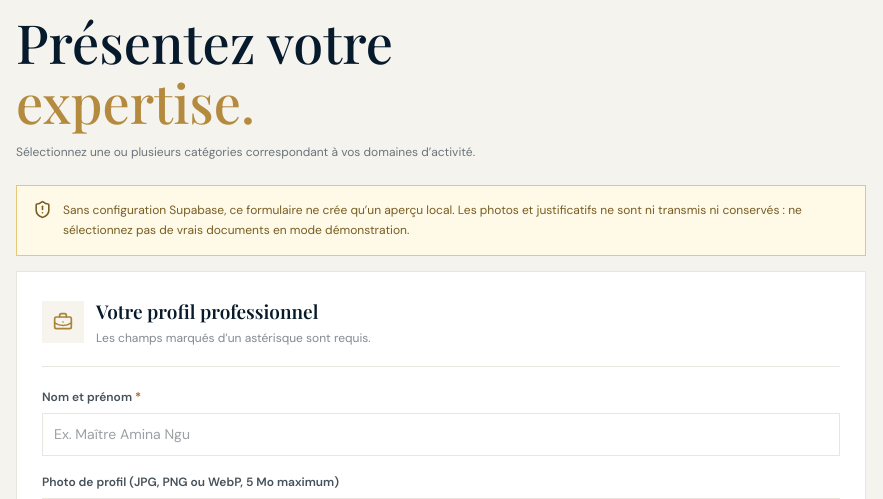
Test: ProfessionalSignupPage › accepts multiple categories for another profession and saves only a local preview
In the field labelled "Nom et prénom *": (441,435) [42,413,840,456], type "Maître Test"
(page scrolled)
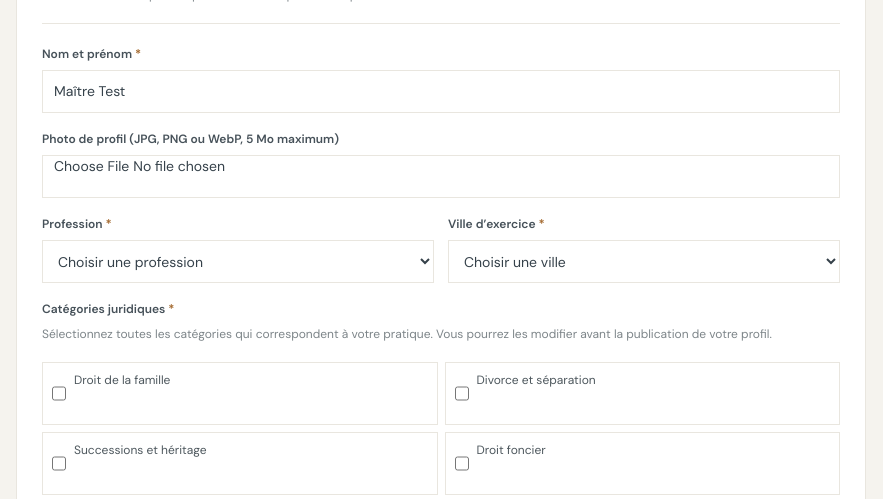
Select "Notaire" in the dropdown labelled "Profession *": (238,262) [42,240,434,283]
Select "Douala — région Littoral" in the dropdown labelled "Ville d’exercice *": (644,262) [448,240,840,283]
(page scrolled)
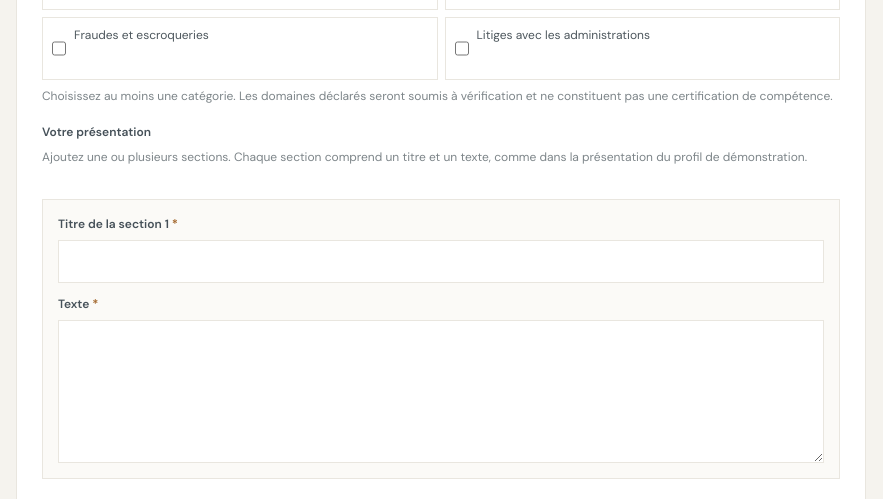
In the field labelled "Titre de la section 1 *": (441,261) [58,240,824,283], type "Votre accompagnement"
In the text box labelled "Texte *": (441,391) [58,320,824,463], type "Présentation de votre pratique."
(page scrolled)
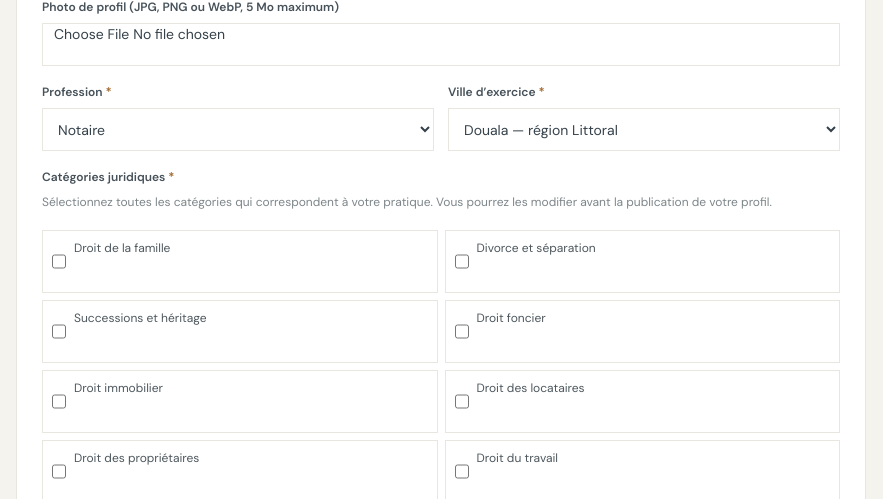
Click the checkbox labelled "Droit de la famille": (59,262) [52,240,66,283]
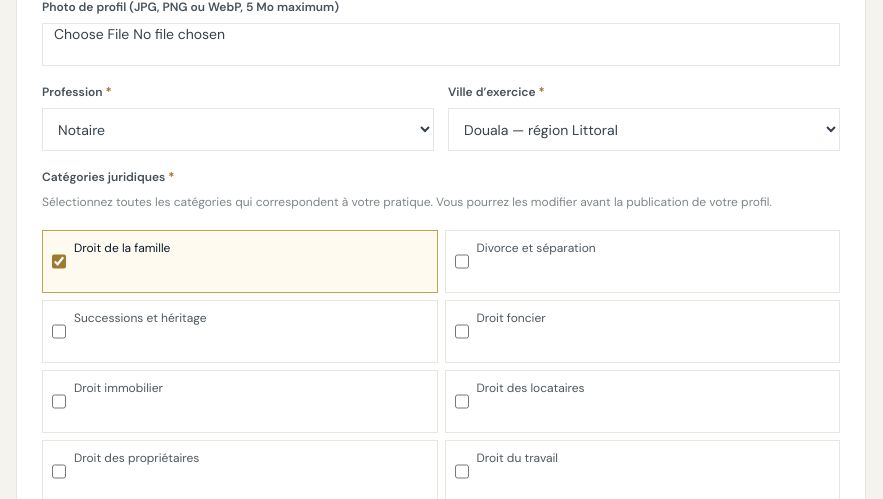
Click the checkbox labelled "Droit du travail": (462,472) [454,450,468,493]
(page scrolled)
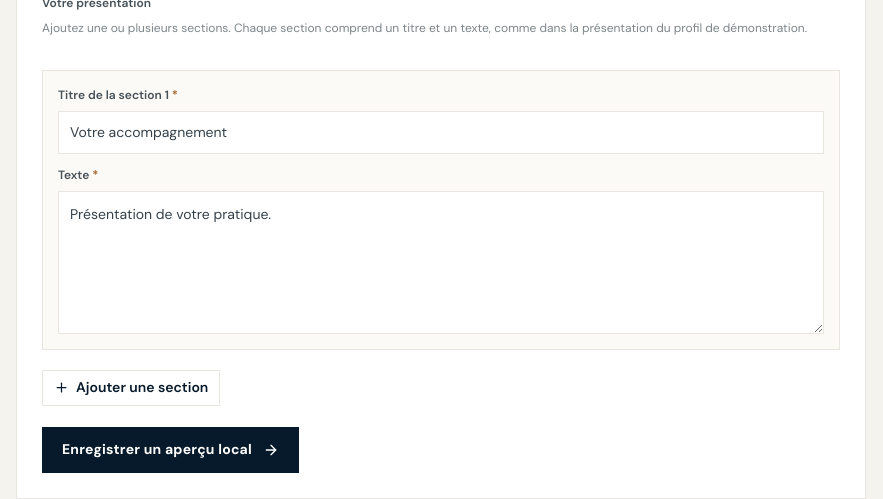
Click the button "Enregistrer un aperçu local": (170,450) [42,427,299,473]
(page scrolled)
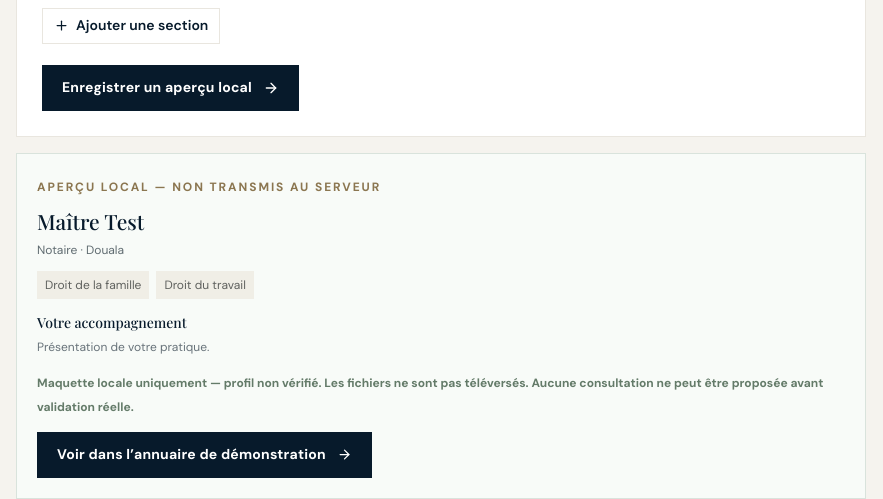
Check: the heading "Maître Test" is shown, box [37,207,144,235]
Check: the heading "Votre accompagnement" is shown, box [37,313,187,332]
Check: the list item "Droit de la famille" is shown, box [37,271,149,299]
